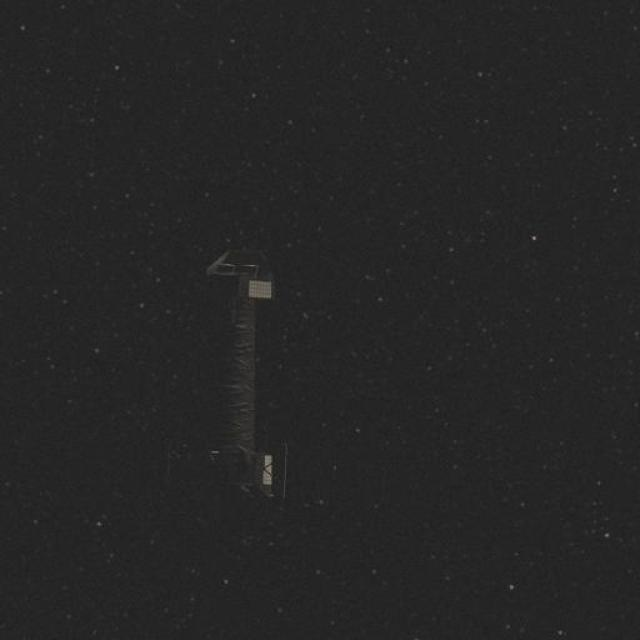xmm_newton: (153, 214, 364, 533)
